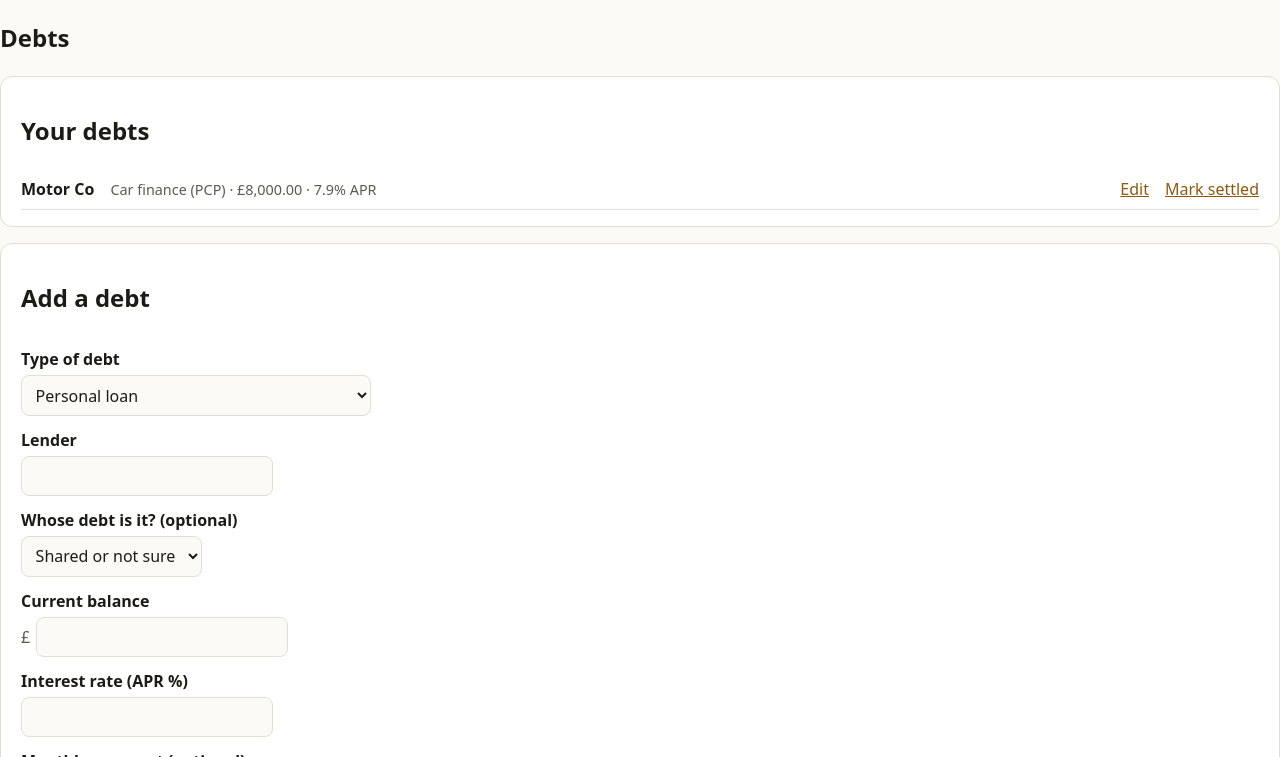
Test: settles a debt and reports details removed on a kind change
Click the button with aria-label "Edit Motor Co": (1135, 189) [1120,177,1149,201]
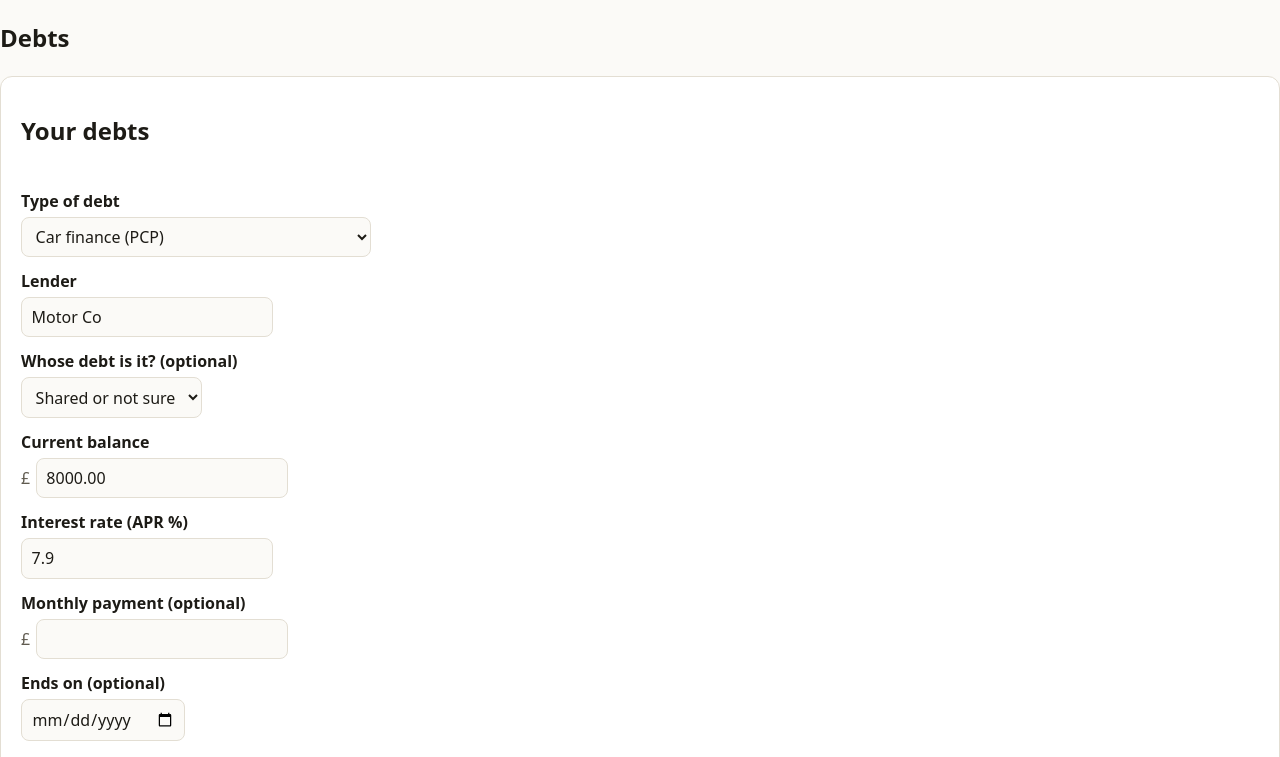
Select "Personal loan" in the dropdown labelled "Type of debt": (196, 237) [21,217,371,257]
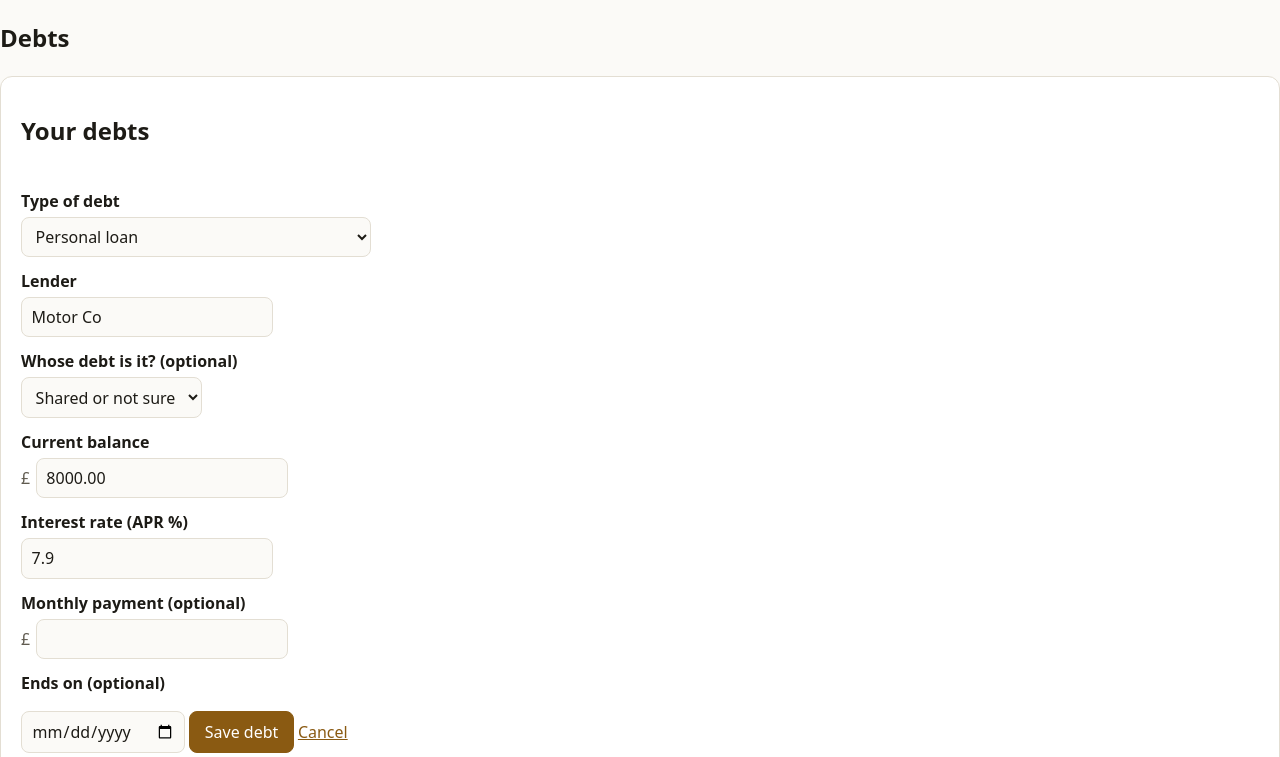
Click the button "Save debt": (242, 732) [189,711,294,753]
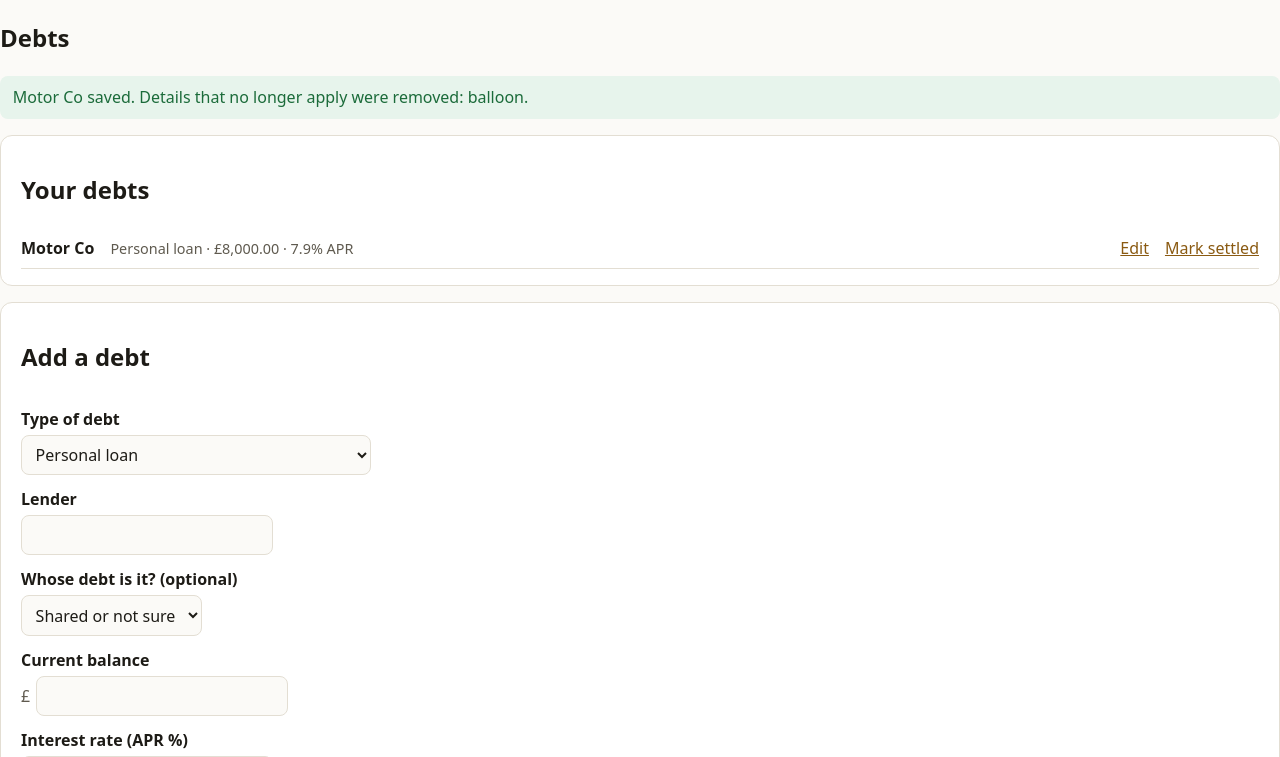
Result: the text "Motor Co saved. Details that no longer apply were removed: balloon." is shown at [0,76,1279,119]
Click the button with aria-label "Mark settled: Motor Co": (1212, 248) [1165,236,1259,260]
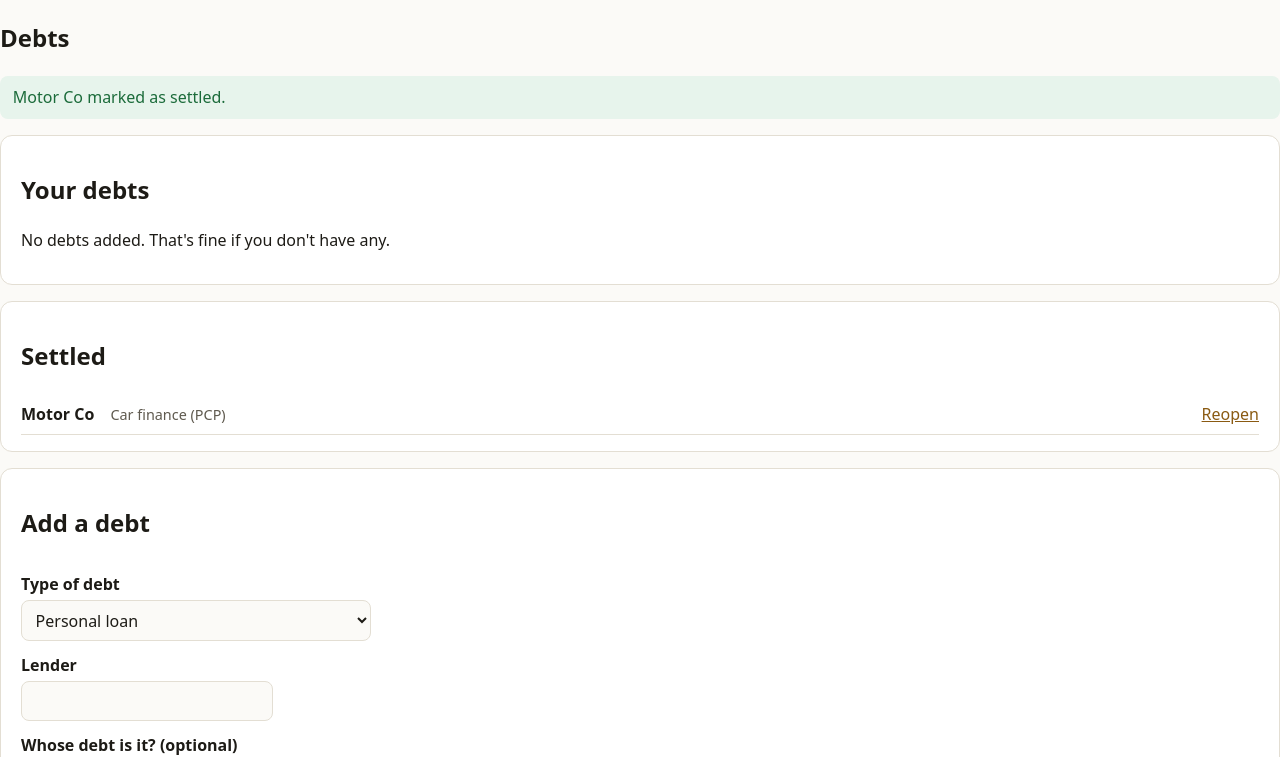
Result: the heading "Settled" is shown at [21,339,106,372]
